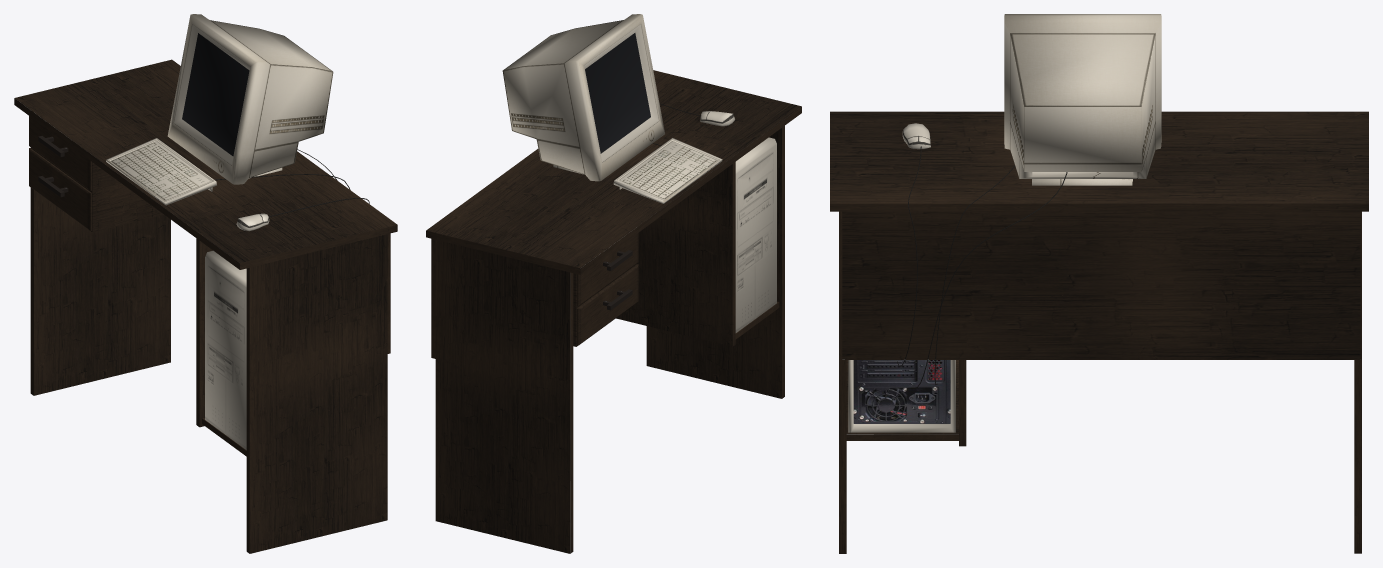
The model's file is FPH_OLDComputer.fbx.
3 renders of one model, left to right at view 1: azimuth 30°, elevation 25°; view 2: azimuth 150°, elevation 25°; view 3: azimuth 270°, elevation 25°, orthographic. The views are drawn at different scales.
Visible parts, largest first — view 1: FPH_ComputerDesk, FPH_OLDComputer, FPH_ComputerDeskDrawer2, FPH_ComputerDeskDrawer1; view 2: FPH_ComputerDesk, FPH_OLDComputer, FPH_ComputerDeskDrawer2, FPH_ComputerDeskDrawer1; view 3: FPH_ComputerDesk, FPH_OLDComputer.
Boxes of the visible parts, x1,y1,x2,y2 form: FPH_ComputerDesk: (14,59,397,553); FPH_OLDComputer: (106,14,369,449); FPH_ComputerDeskDrawer2: (29,148,91,230); FPH_ComputerDeskDrawer1: (29,116,91,190); FPH_ComputerDesk: (426,70,801,553); FPH_OLDComputer: (502,14,776,332); FPH_ComputerDeskDrawer2: (577,264,638,345); FPH_ComputerDeskDrawer1: (577,233,638,306); FPH_ComputerDesk: (830,111,1368,553); FPH_OLDComputer: (848,14,1161,432).
Size of the model in its own units: 2.86 by 6.48 by 6.28.
Materials: 3 (3 with a texture image).
